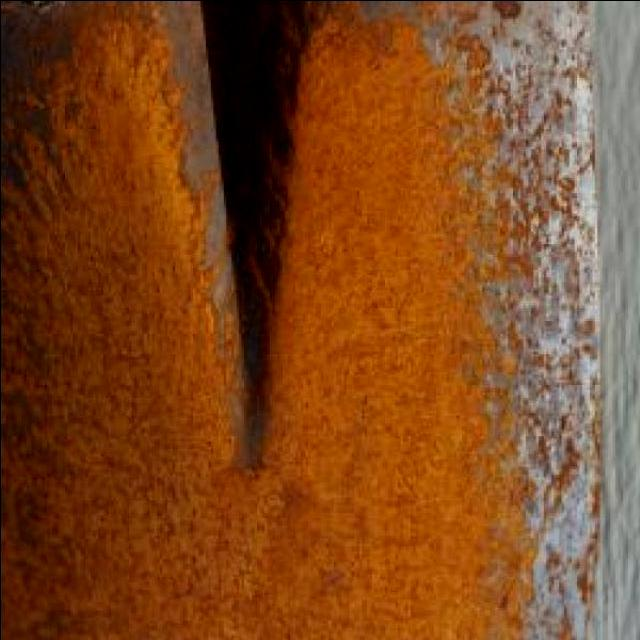crack: (200, 6, 306, 474)
dampens: (146, 73, 207, 243), (2, 141, 35, 201)
